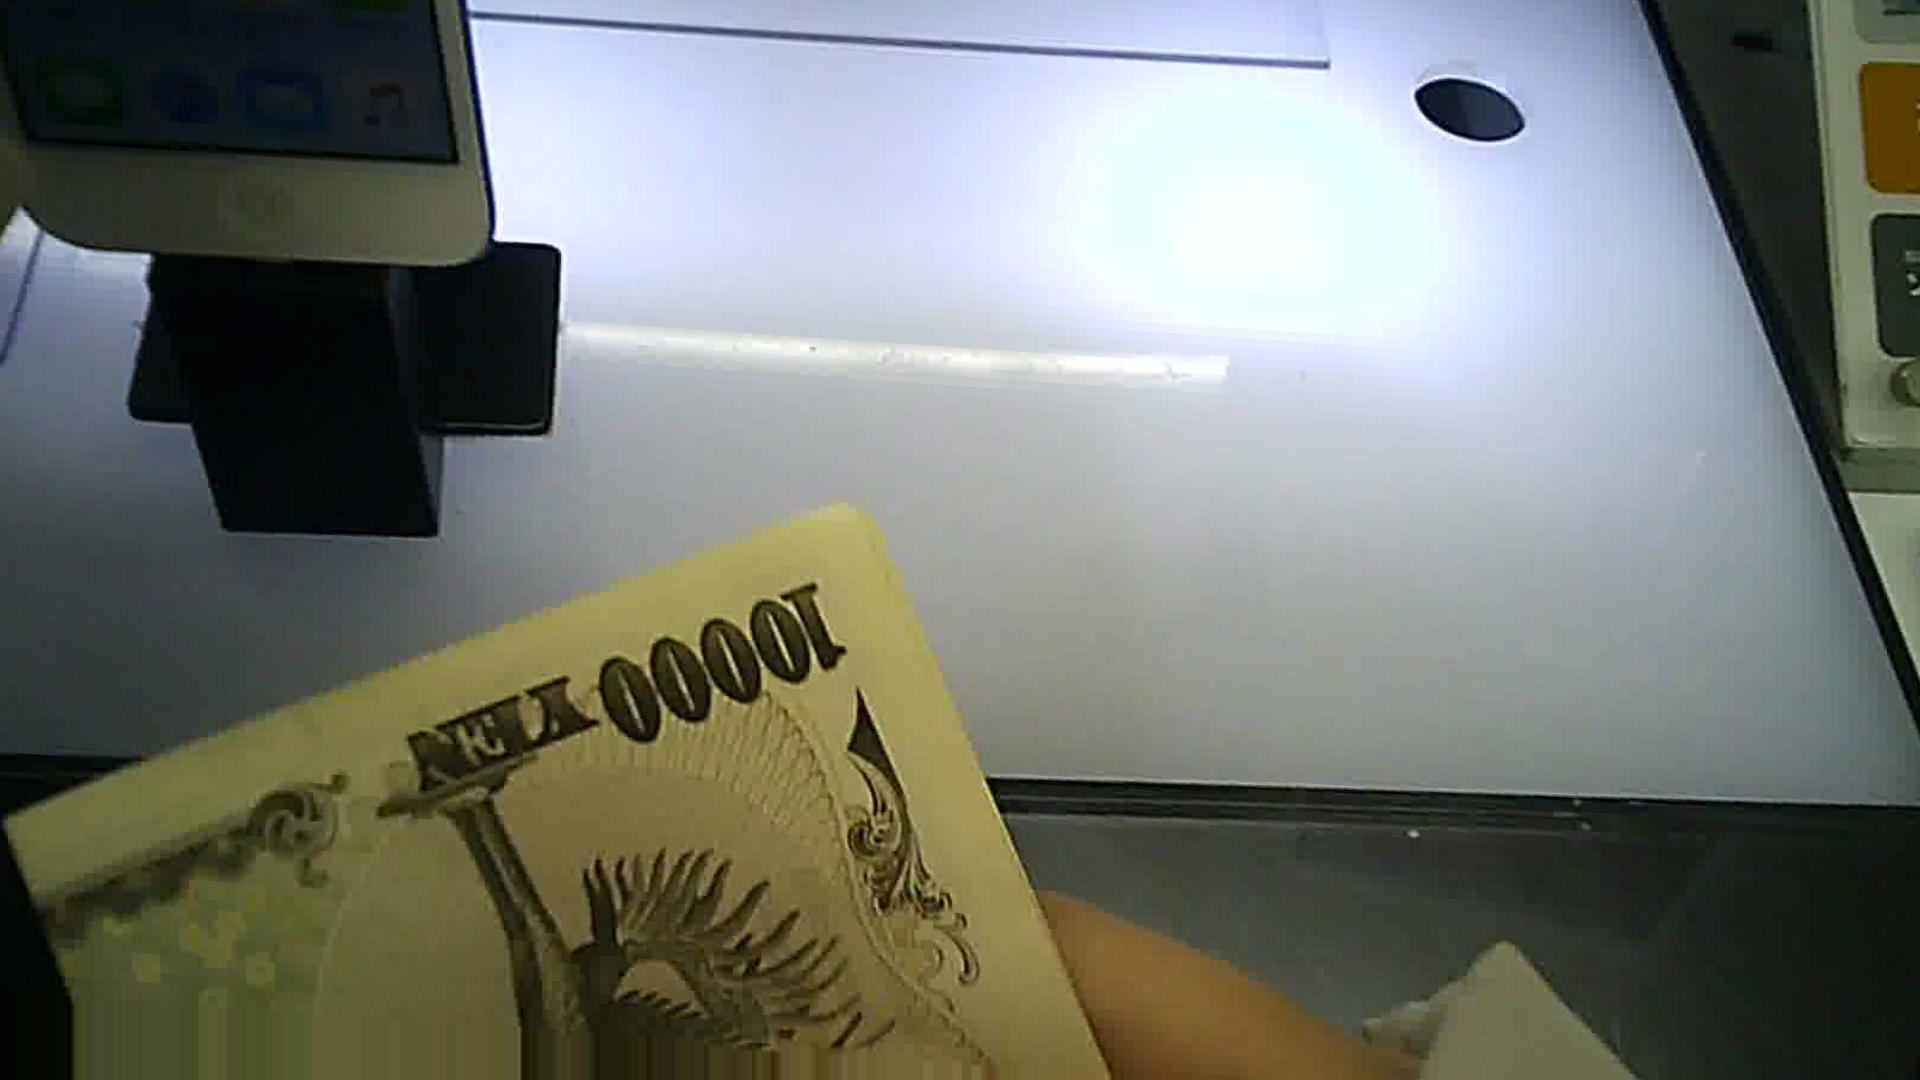10,000 Yen: (61, 498, 1093, 1069)
